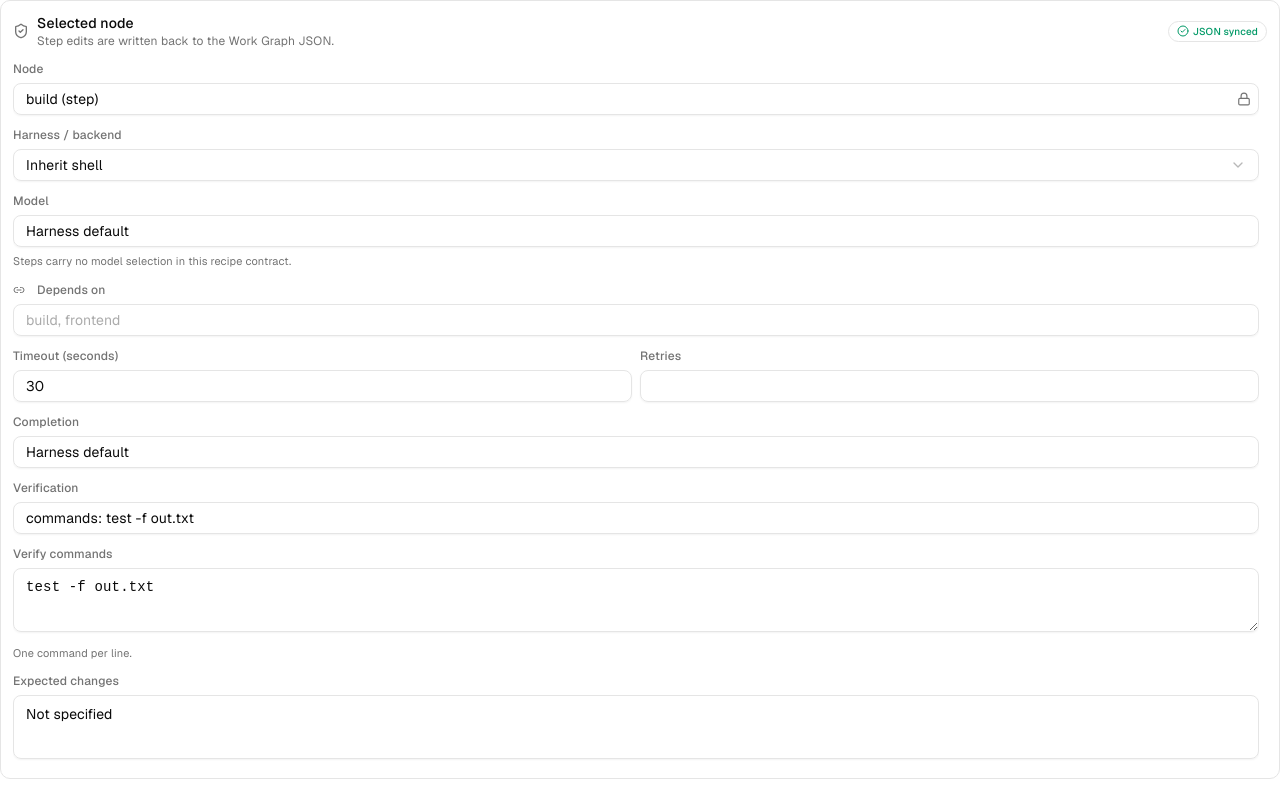
Test: SelectedNodeInspector edit mode › shows a refused commit inline and never claims synced
Replace the text in the field labelled "Timeout (seconds)" with "-1": coordinates (322, 386) [13,370,632,402]
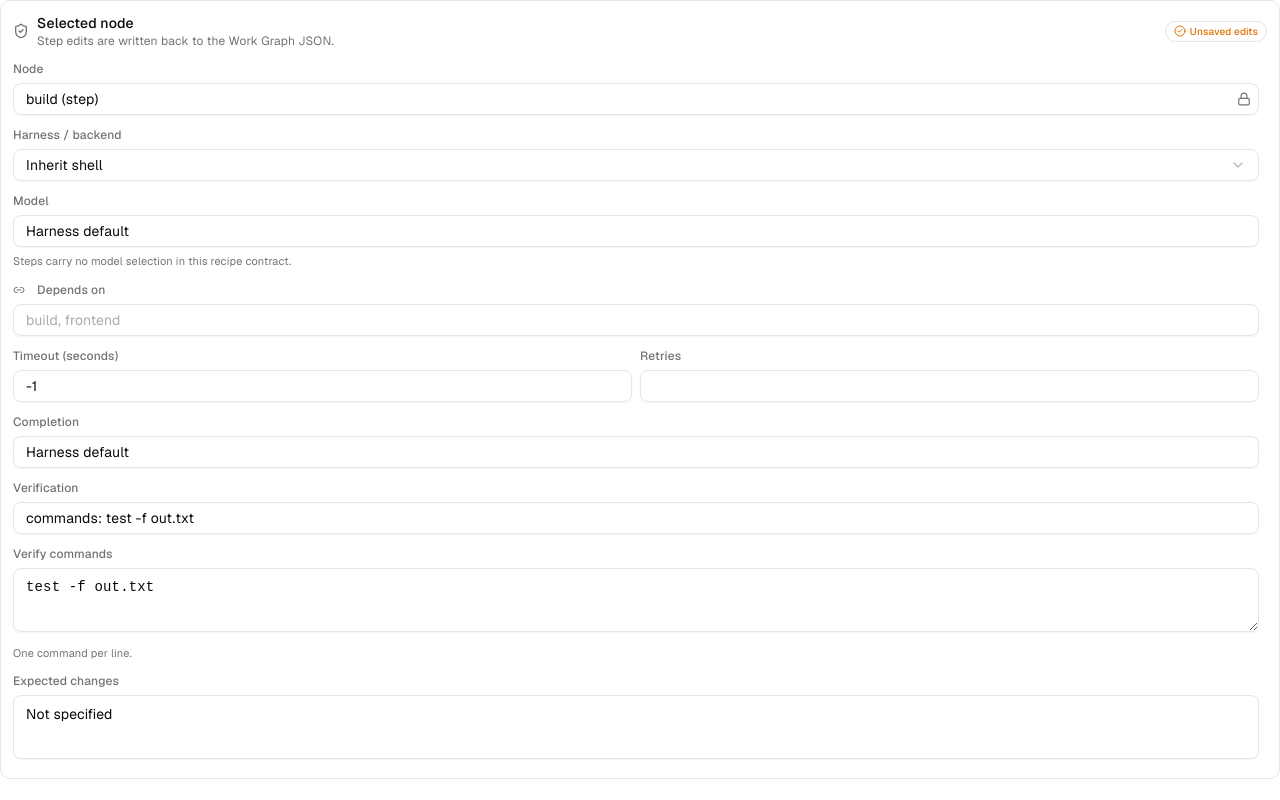
Leave the field labelled "Timeout (seconds)", box [13,370,632,402]
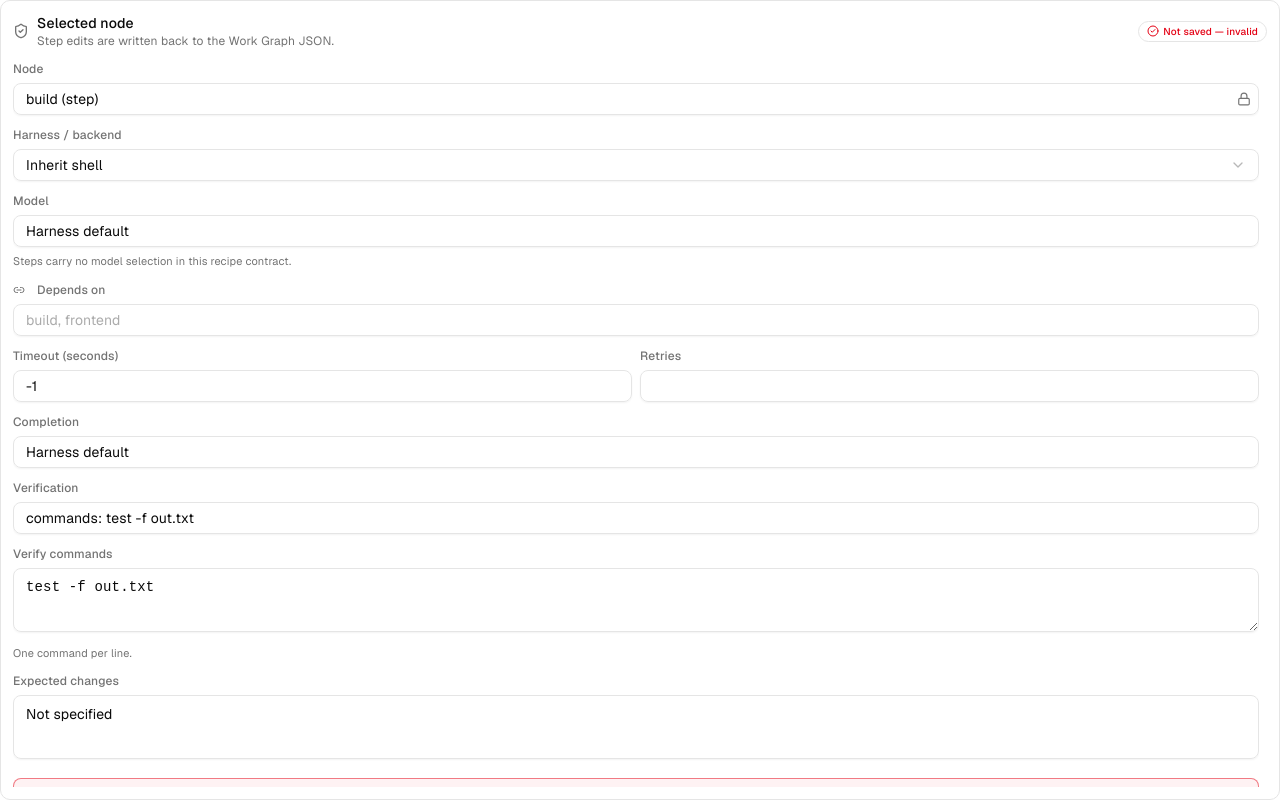
Now the element with test id "mentu-json-sync-chip" reads "Not saved — invalid", box [1163,24,1258,38]
